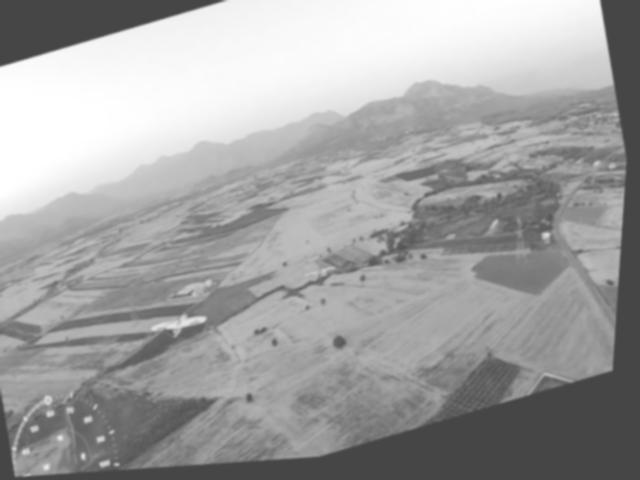hedef: (139, 295, 228, 358)
